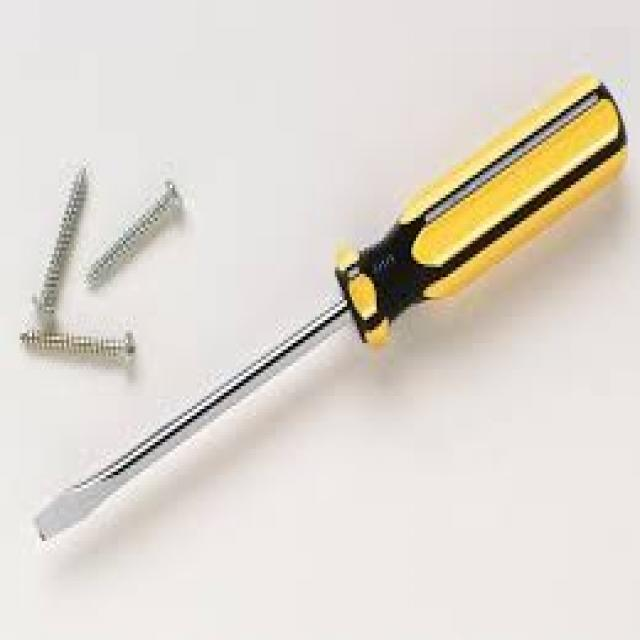screwdriver: (31, 74, 629, 550)
